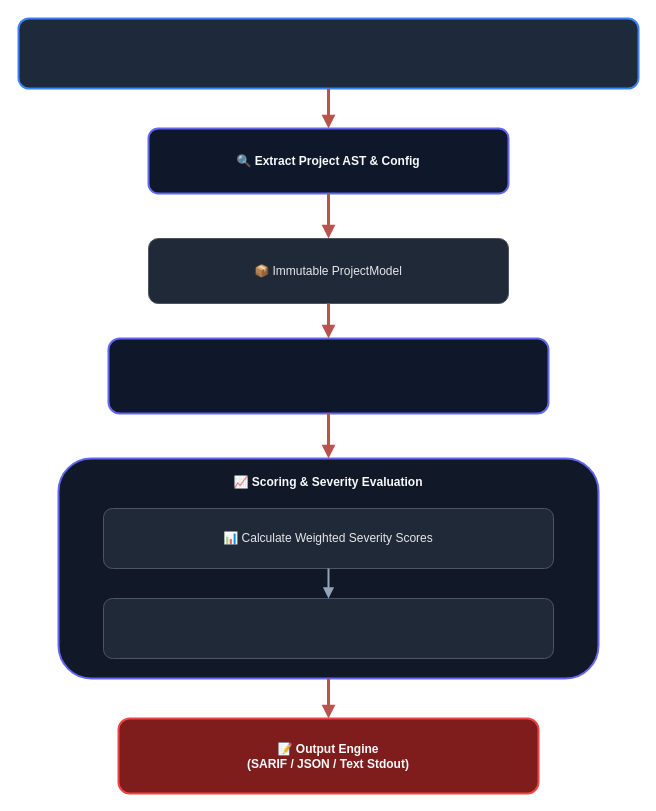
Some shapes in this 656 by 811 pixel diagram are drawn without their labels. Each missing label, with the centre of its shape:
💻 User Command: toolseal audit [PATH] --json --sarif --min-severity: point (328, 53)
🛑 Check for Blocking Status (Critical failures): point (328, 628)
🛡️ 28-Check Taxonomy Engine (Families A - G Evaluated): point (328, 375)
